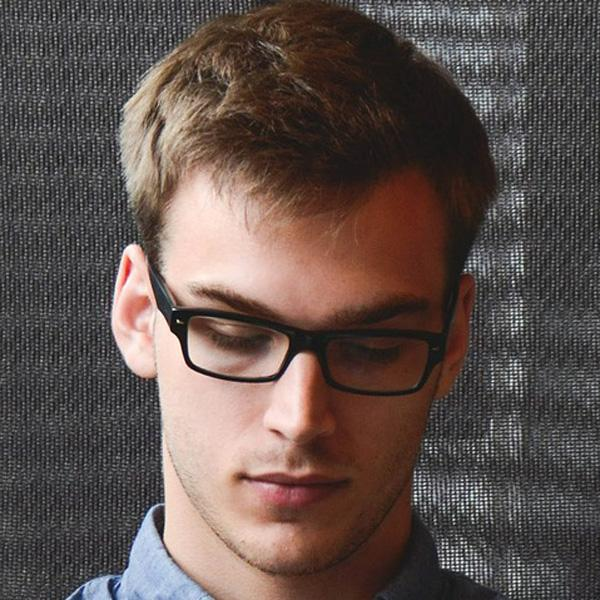Eyes: (329, 320, 416, 378), (188, 308, 276, 360)
